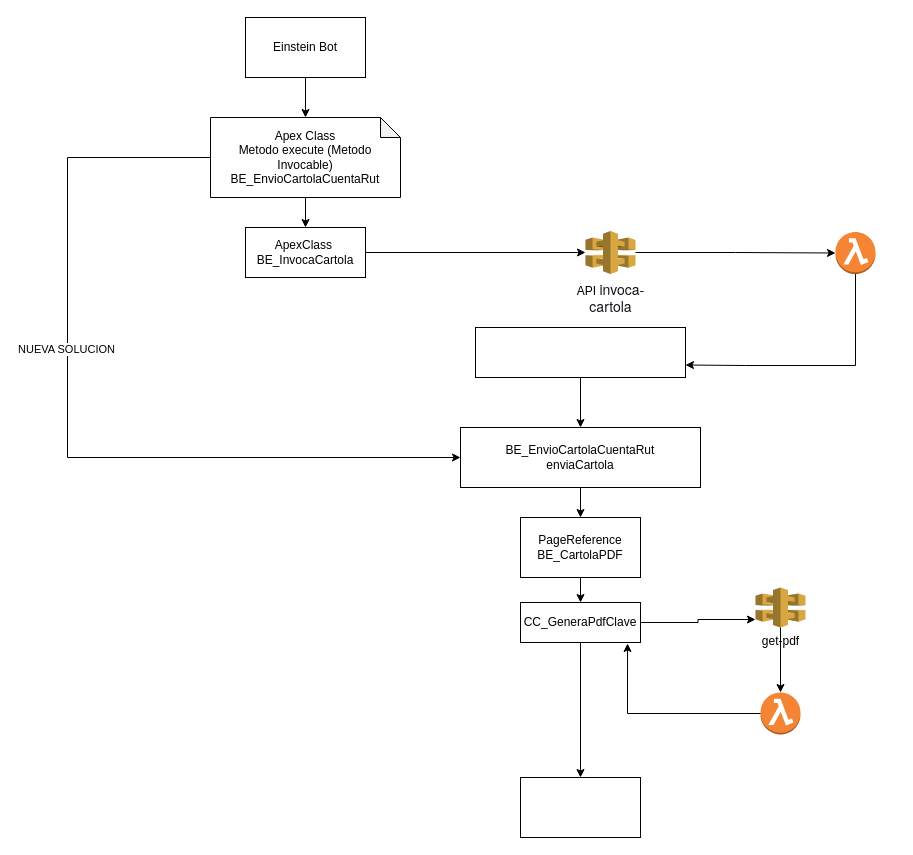
This 913x855 diagram has some shape labels left out. Each missing label, with the centre of its shape:
BE_EnvioCorreoMC: the point at 580,807
bech-encrypt-pdf-py: the point at 780,713
CC_GeneraCartolaWhatsapp: the point at 580,352
Genera Cartola: the point at 855,252
